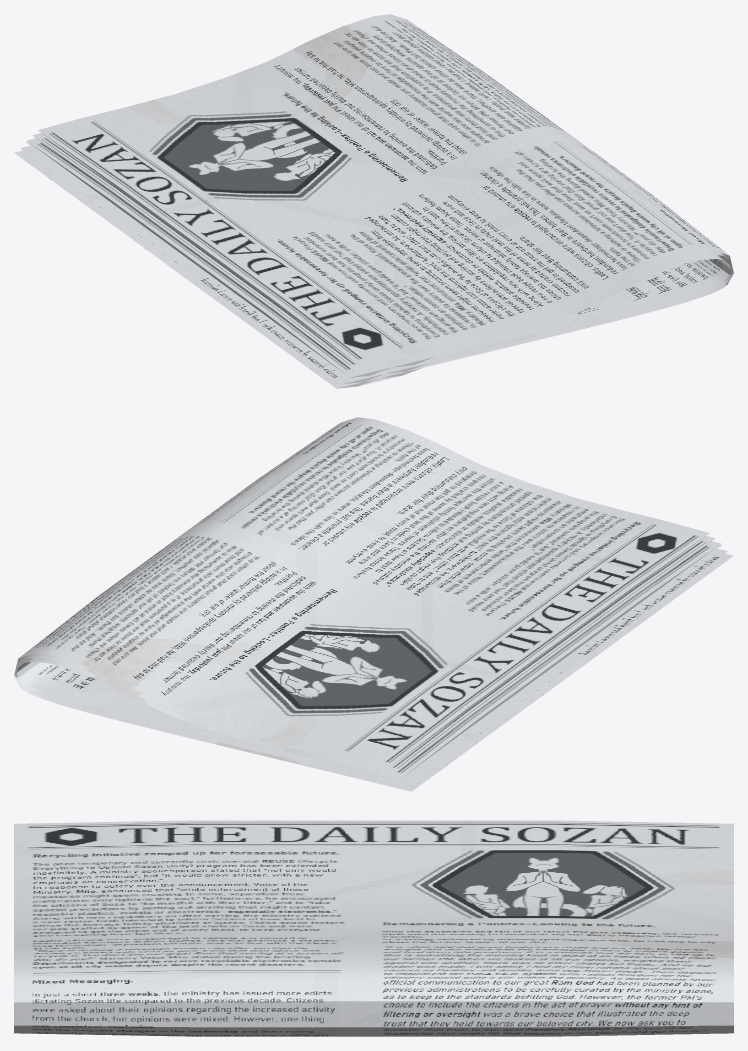
File: Newspaper.fbx
The picture shows the model from 3 angles, top to bottom: view 1: azimuth 30°, elevation 25°; view 2: azimuth 150°, elevation 25°; view 3: azimuth 270°, elevation 25°; orthographic projection. The views are drawn at different scales.
Parts seen in each view (by area): view 1: Newspaper; view 2: Newspaper; view 3: Newspaper.
Boxes of the visible parts, bbox=[...] form: Newspaper: bbox=[14, 14, 733, 388]; Newspaper: bbox=[14, 417, 733, 791]; Newspaper: bbox=[14, 820, 733, 1036].
Size of the model in its own units: 143 by 18.94 by 200.
1 material, 1 textured.
